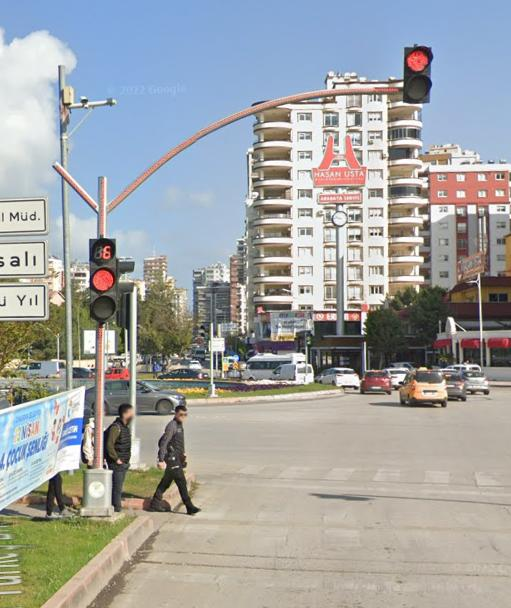redlight: (88, 234, 118, 325), (404, 45, 433, 102)
